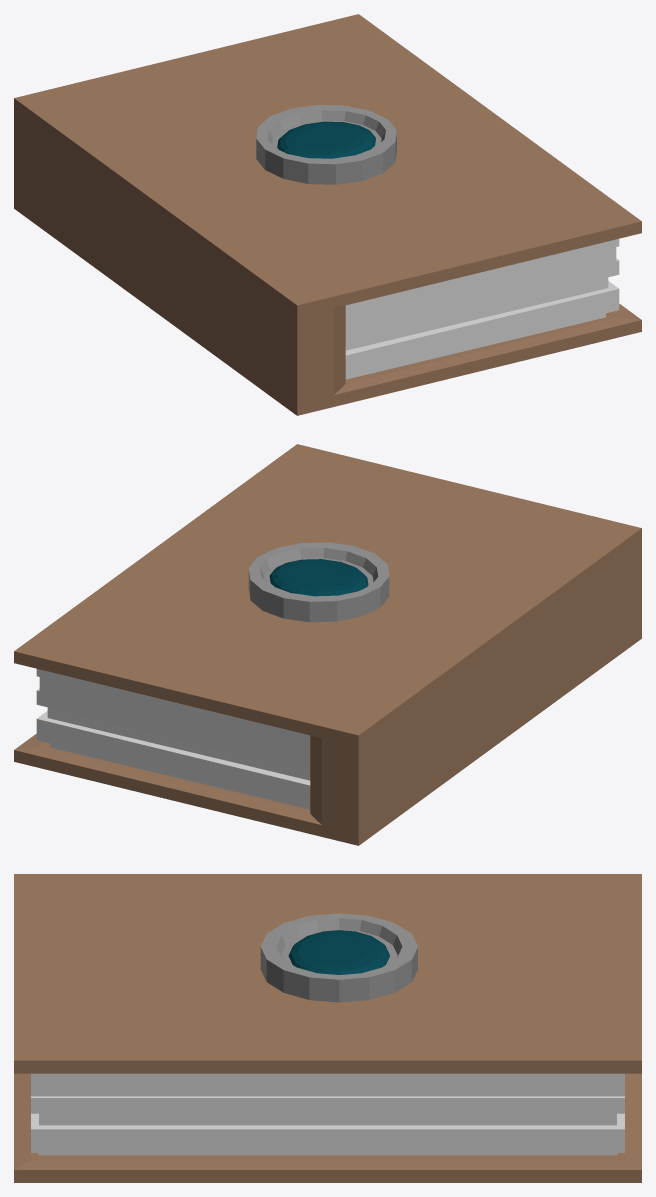
File: book.fbx
3 views of the same model, one above another, from view 1: azimuth 30°, elevation 25°; view 2: azimuth 150°, elevation 25°; view 3: azimuth 270°, elevation 25° (orthographic). The views are drawn at different scales.
Parts seen in each view (by area): view 1: Cube; view 2: Cube; view 3: Cube.
Part boxes in pixels (x1=…): Cube: x1=14, y1=14, x2=641, y2=415; Cube: x1=14, y1=444, x2=641, y2=845; Cube: x1=14, y1=874, x2=641, y2=1182.
Bounding box in the file's own units: 22.47 × 8.16 × 31.97.
